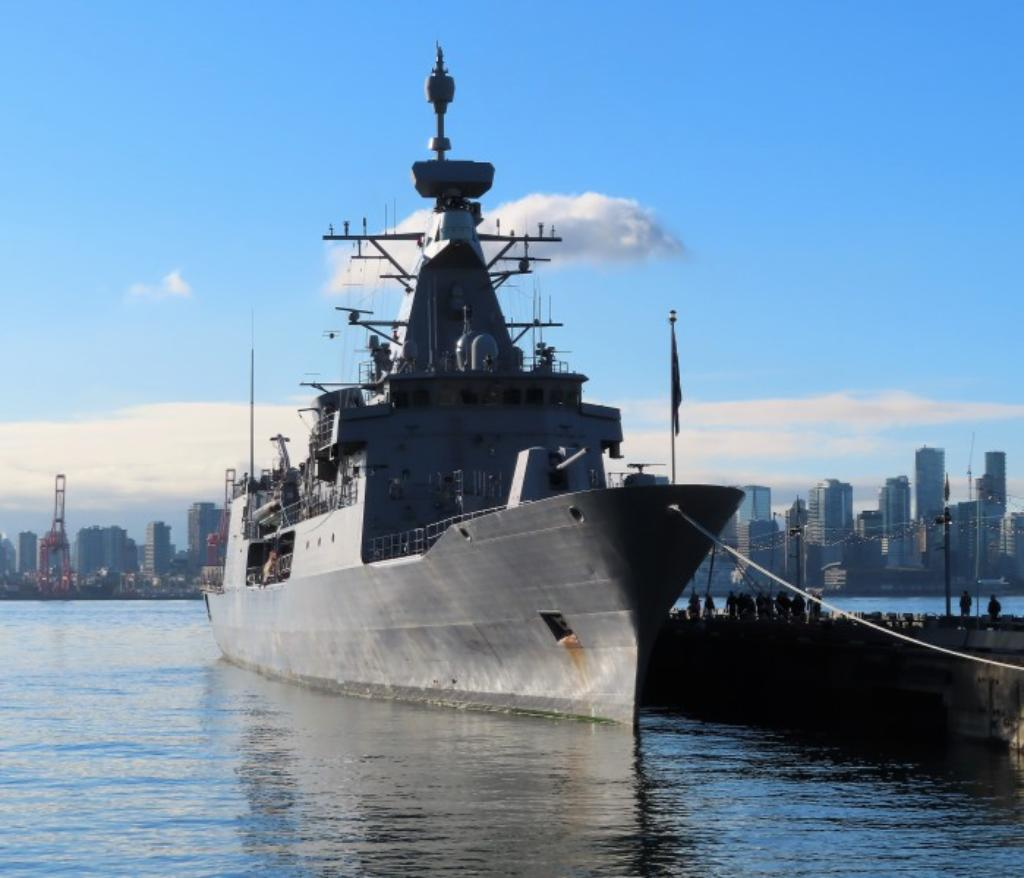Warship: (201, 44, 749, 738)
